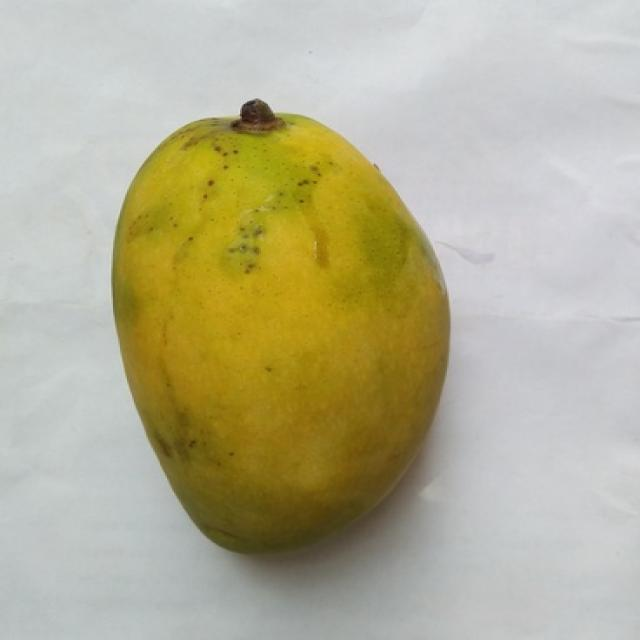Mango: (113, 114, 449, 552)
